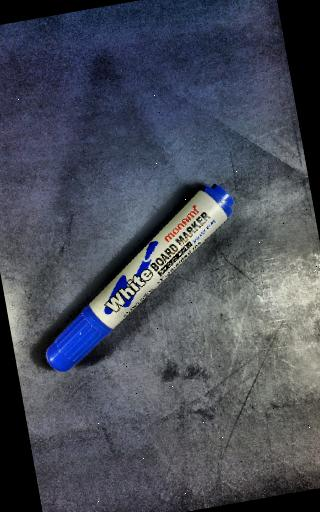marcador azul: (46, 184, 234, 371)
